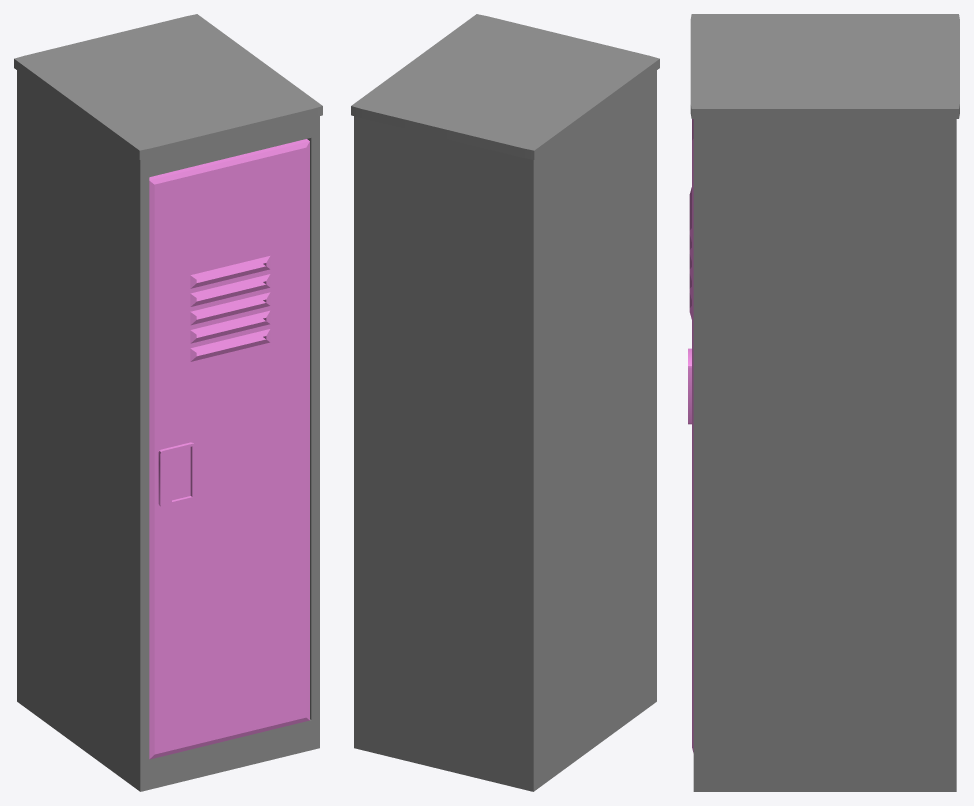
The model's file is Locker.FBX.
3 renders of one model, left to right at view 1: azimuth 30°, elevation 25°; view 2: azimuth 150°, elevation 25°; view 3: azimuth 270°, elevation 25°, orthographic. The views are drawn at different scales.
Visible parts, largest first — view 1: Locker, Locker_Door; view 2: Locker; view 3: Locker, Locker_Door.
Boxes of the visible parts, x1=… form: Locker: x1=14, y1=14, x2=322, y2=791; Locker_Door: x1=149, y1=139, x2=309, y2=759; Locker: x1=351, y1=14, x2=659, y2=791; Locker: x1=690, y1=14, x2=959, y2=791; Locker_Door: x1=688, y1=119, x2=693, y2=752.
Size of the model in its own units: 34.25 by 115 by 41.35.
